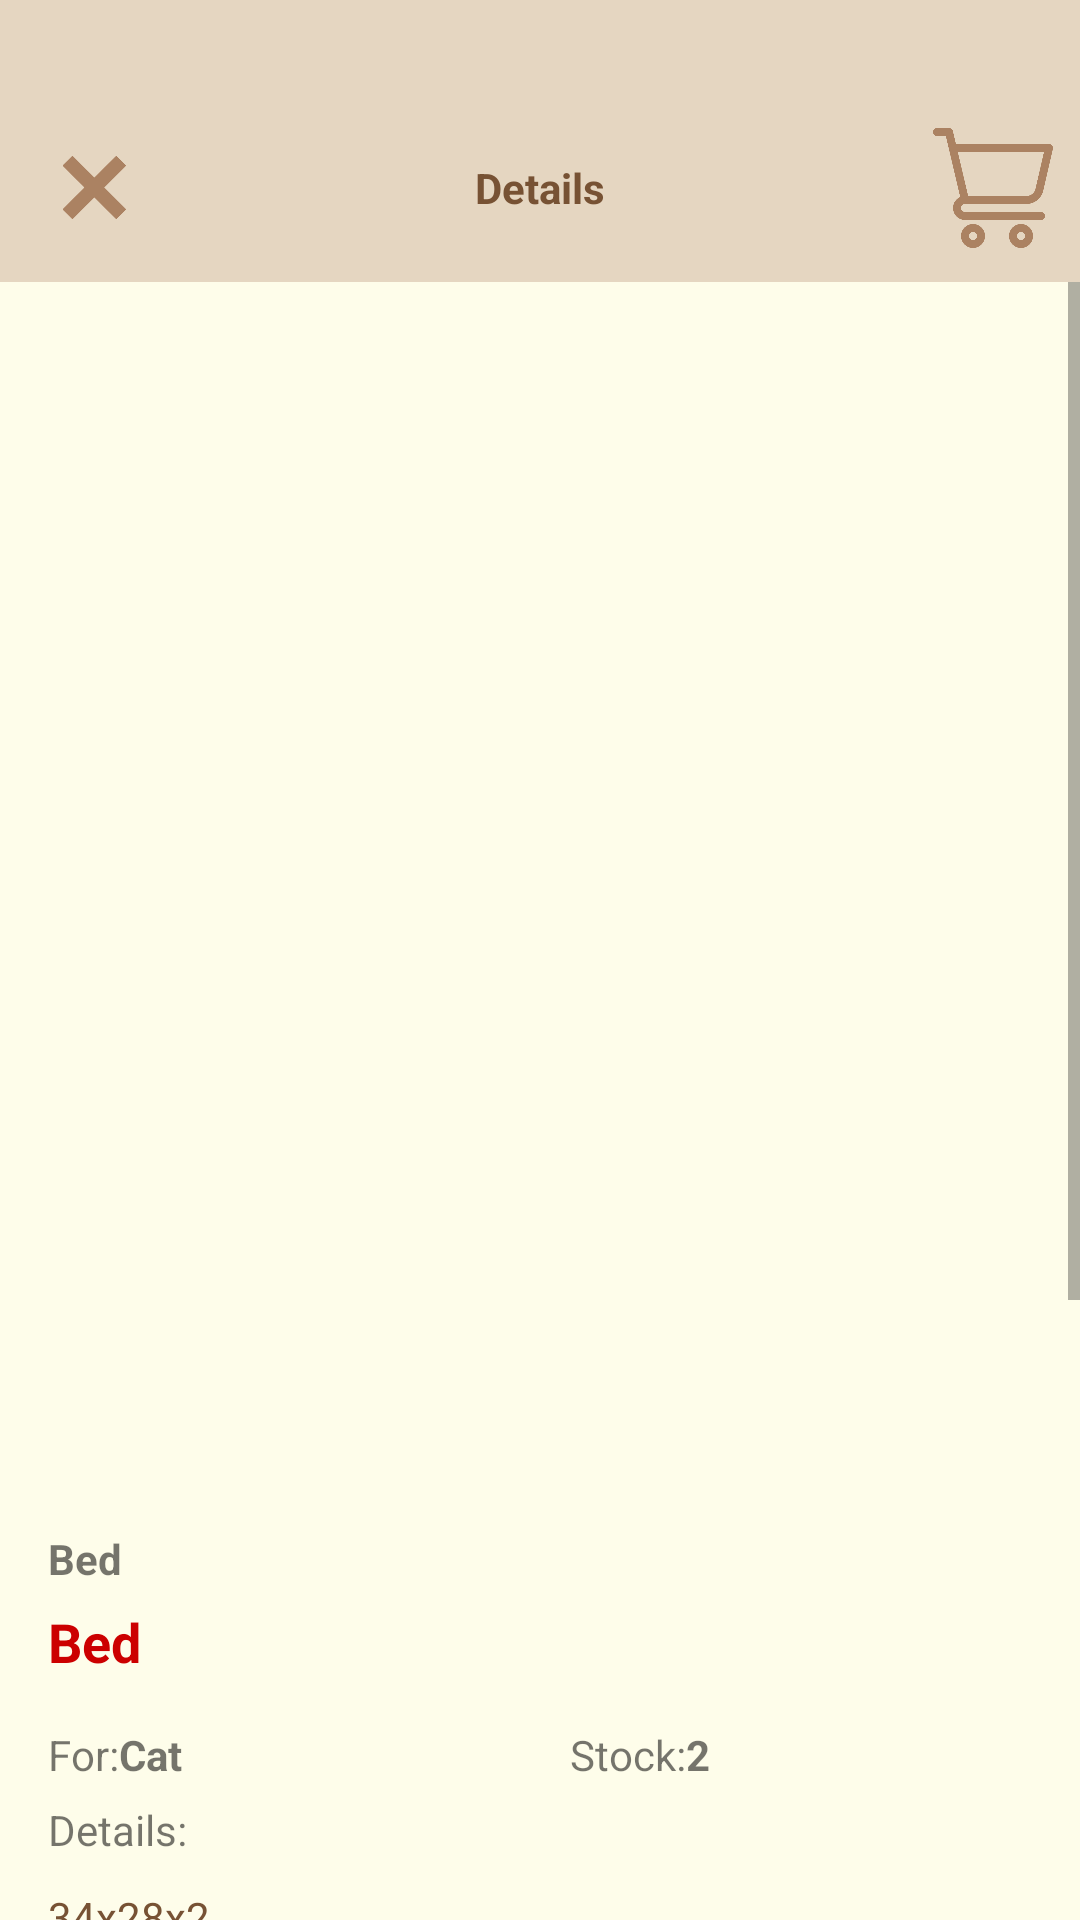

Icons on this 1080×1920 Android screen, each with the point to tap as point (x, y):
cart: point (993, 188)
exit: point (94, 187)
